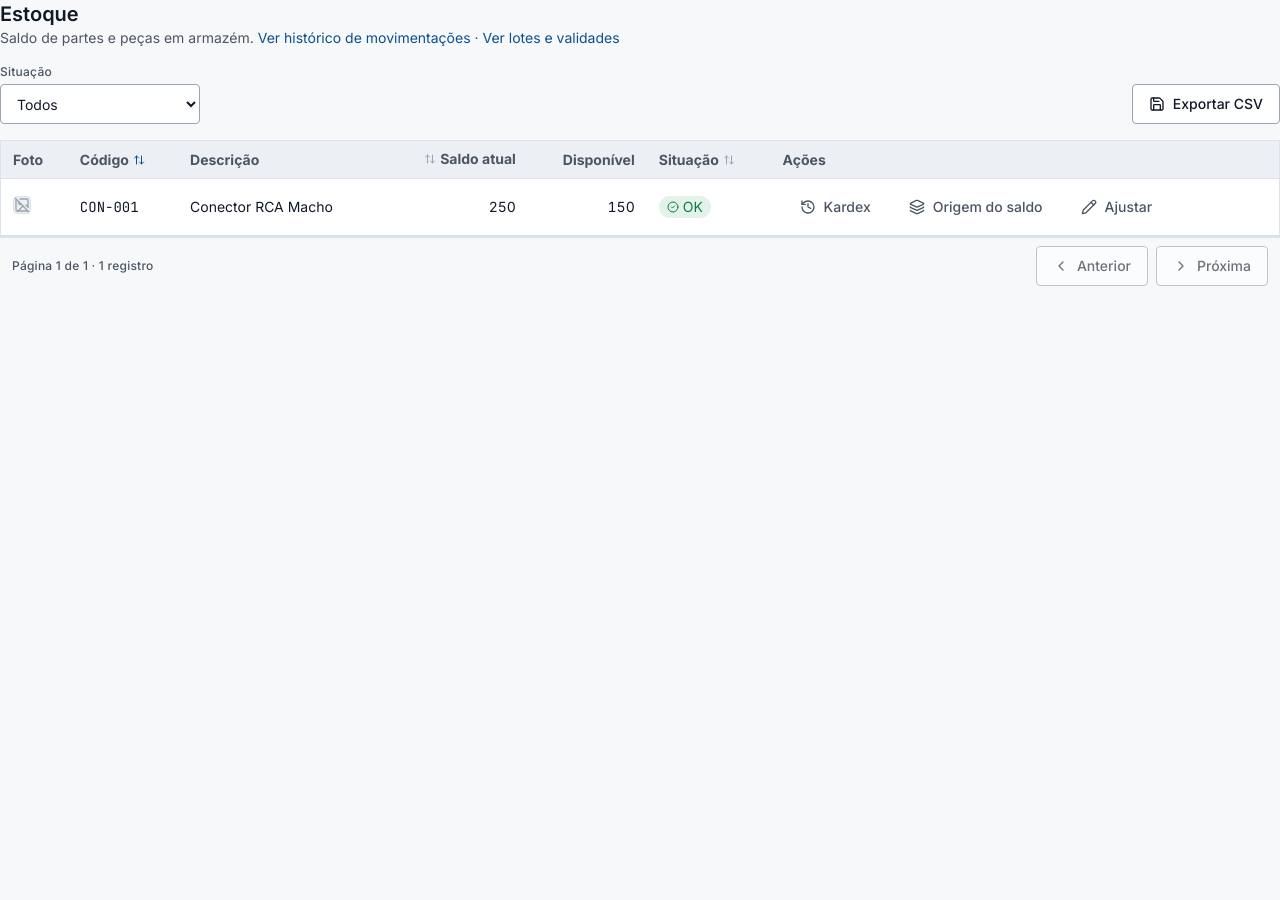
it: Estoque › itens rastreados (v1.2) › recusa da API (409 serie indisponivel) aparece no modal
Expected: the text "CON-001" is shown, x1=80 y1=198 x2=139 y2=216
Click the button with aria-label "Ajustar CON-001" at [1116, 207], box x1=1064 y1=187 x2=1169 y2=227
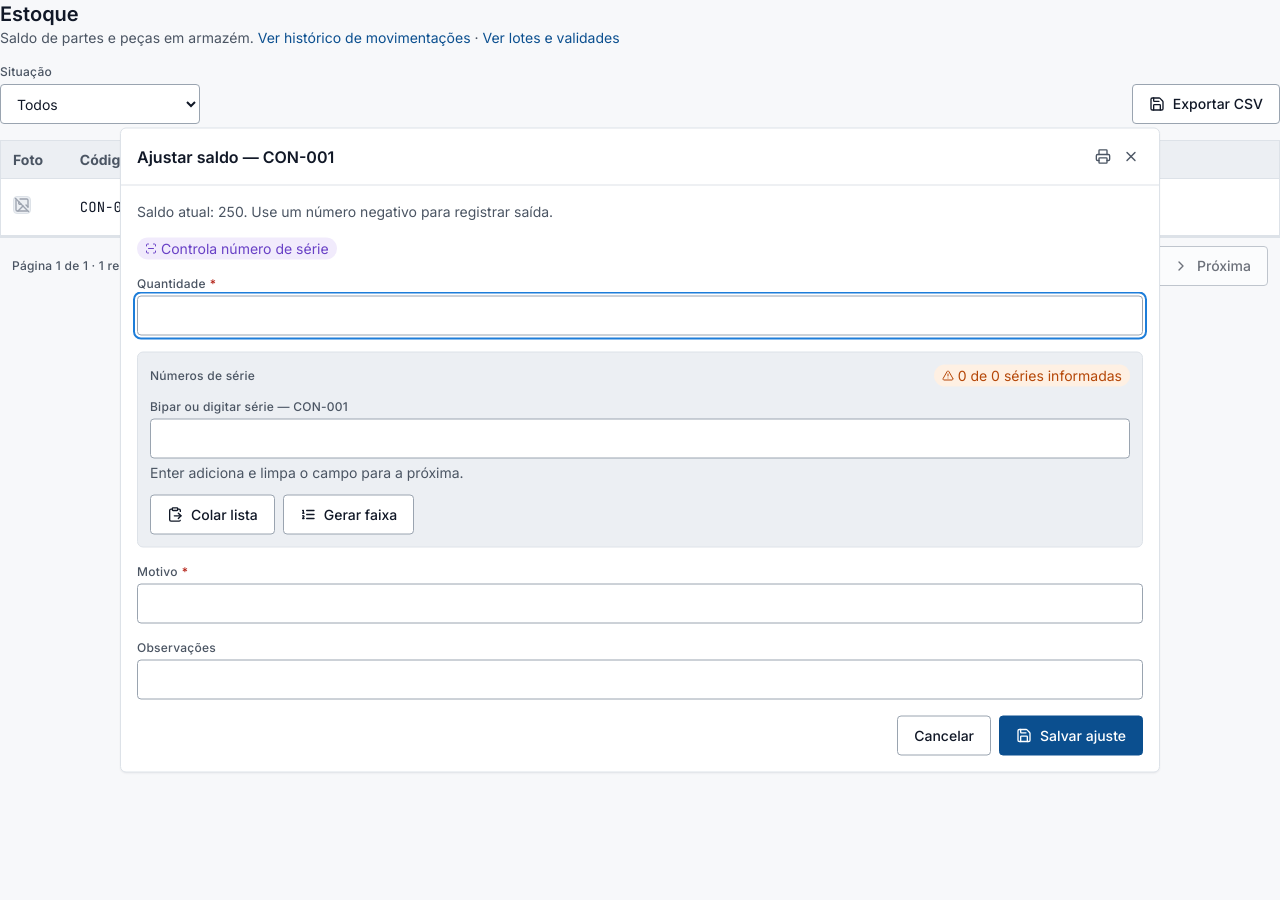
Expected: the text "Controla número de série" is shown, x1=137 y1=238 x2=337 y2=260
Type "-1" into the field labelled "Quantidade*" at [640, 316], box x1=137 y1=296 x2=1143 y2=336
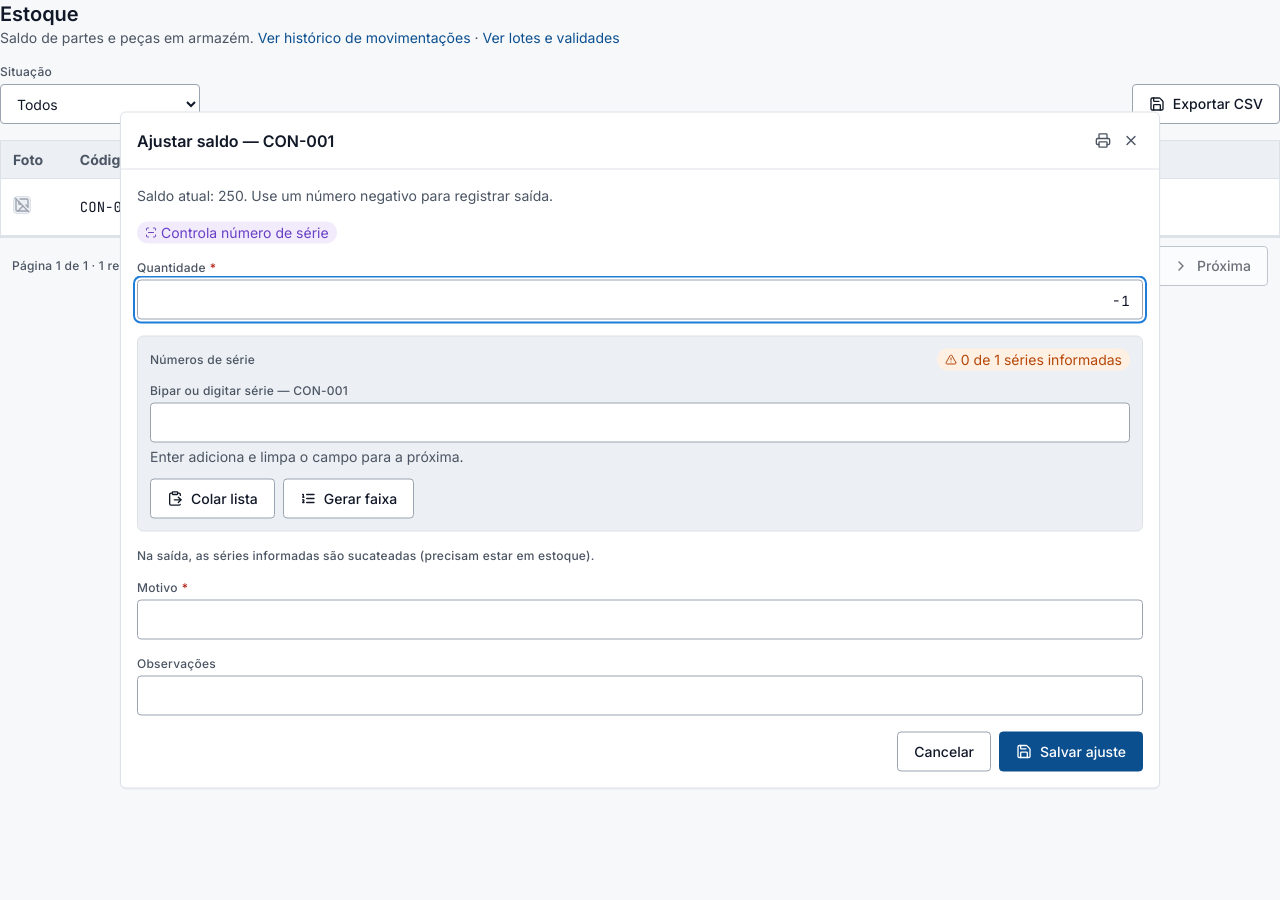
Type "Perda" into the field labelled "Motivo*" at [640, 620], box x1=137 y1=600 x2=1143 y2=640
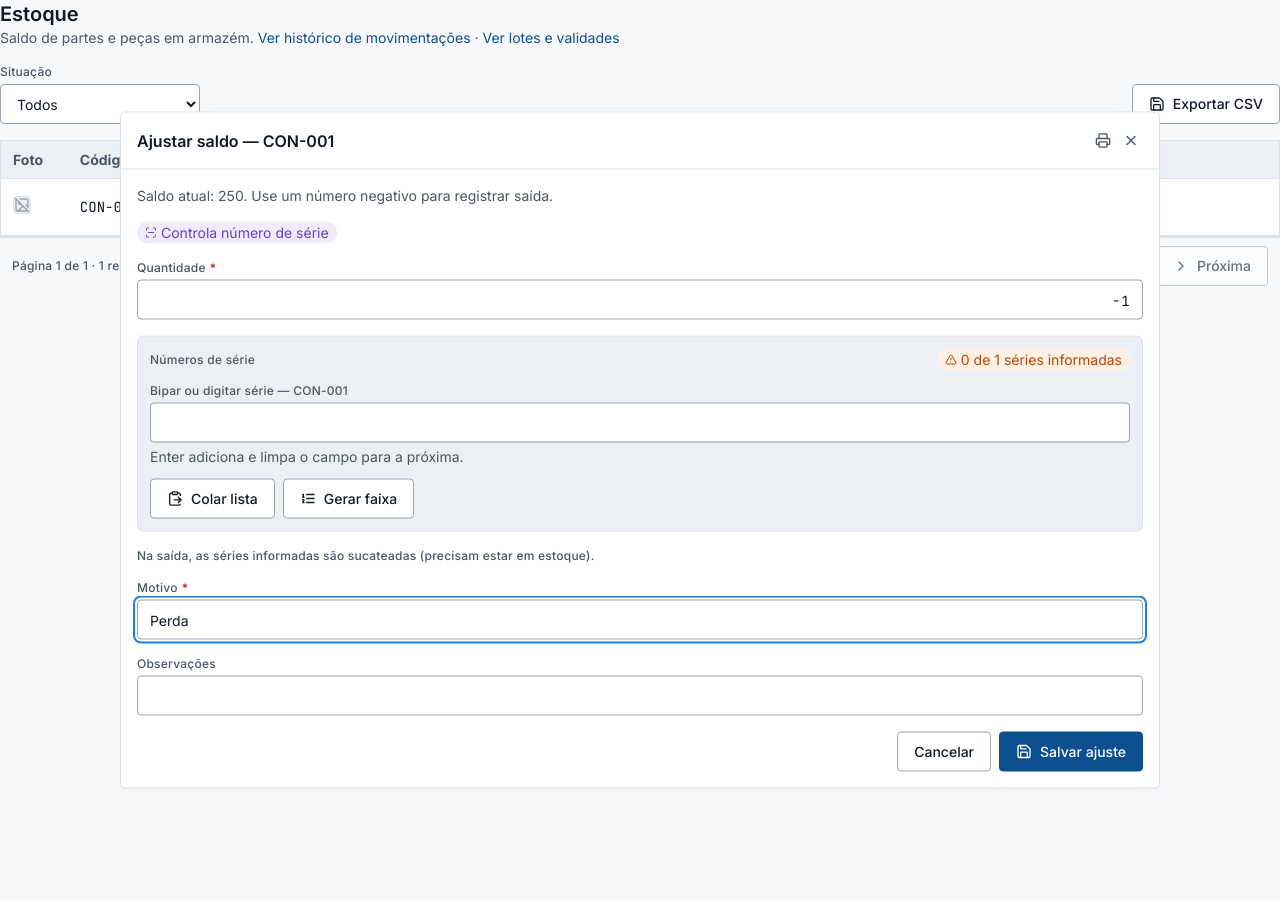
Type "SN-9" into the field labelled "Bipar ou digitar série — CON-001" at [640, 422], box x1=150 y1=402 x2=1130 y2=442
Then press Enter
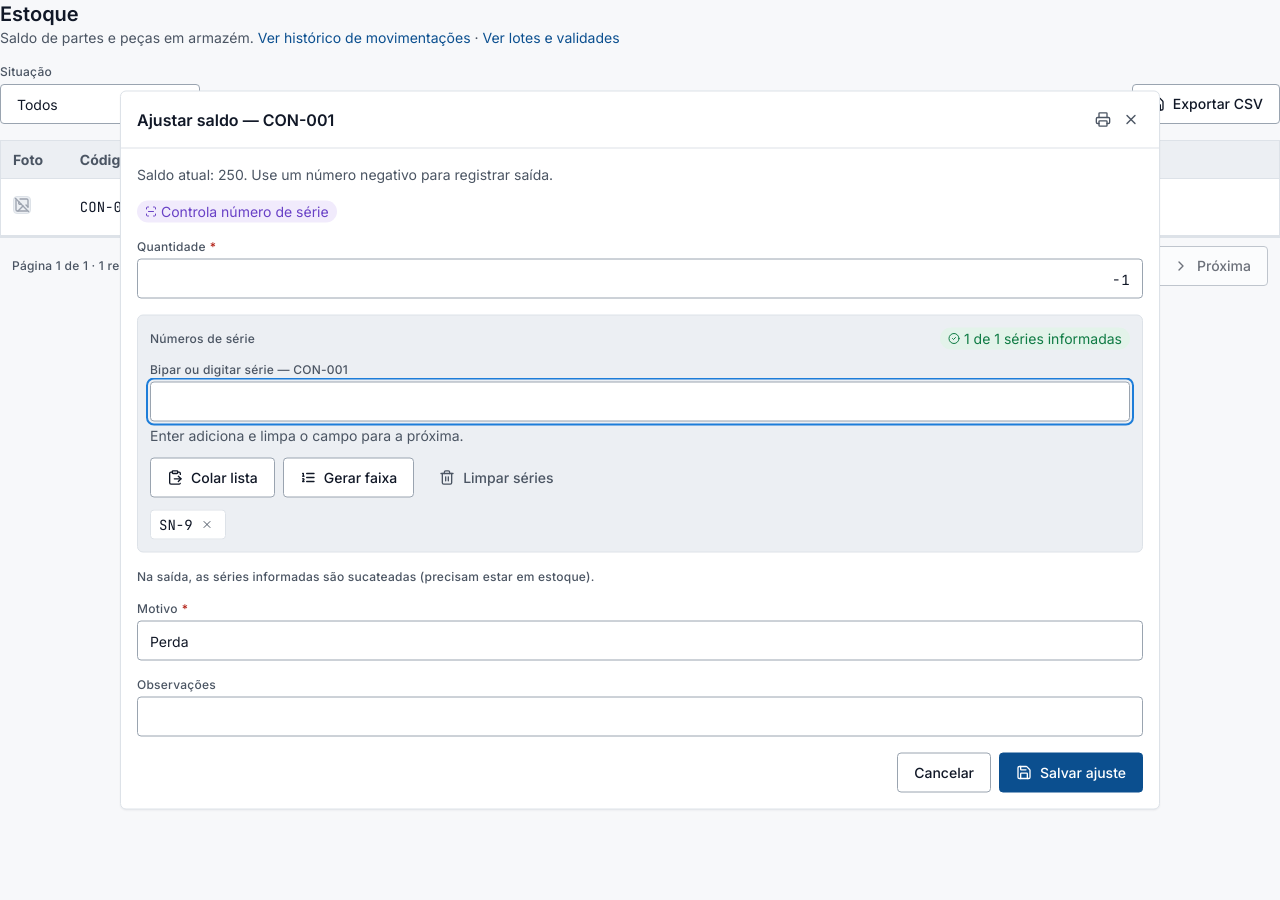
Click the button "Salvar ajuste" at [1071, 772], box x1=999 y1=752 x2=1143 y2=792
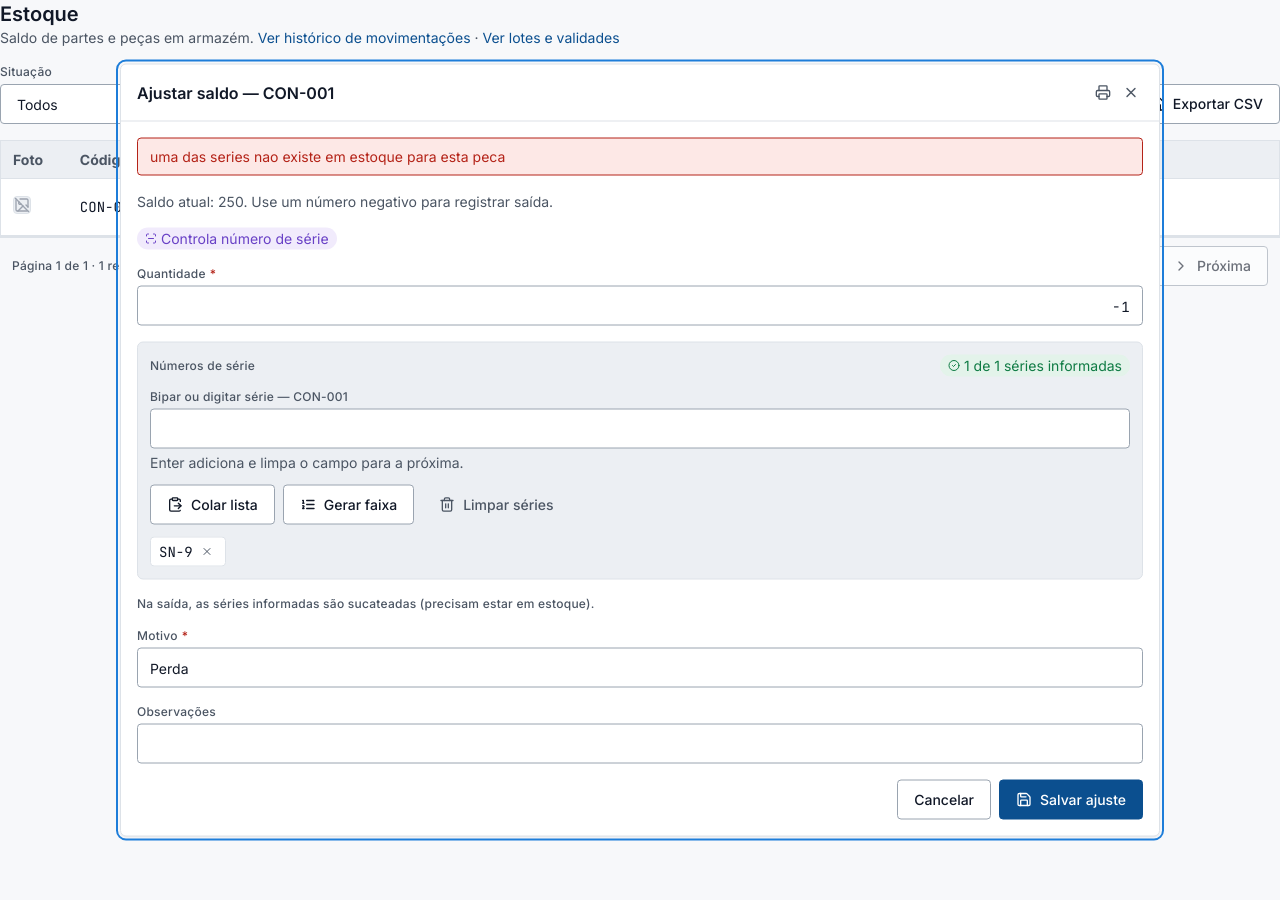
Expected: the message shows "nao existe em estoque", x1=150 y1=148 x2=505 y2=164
